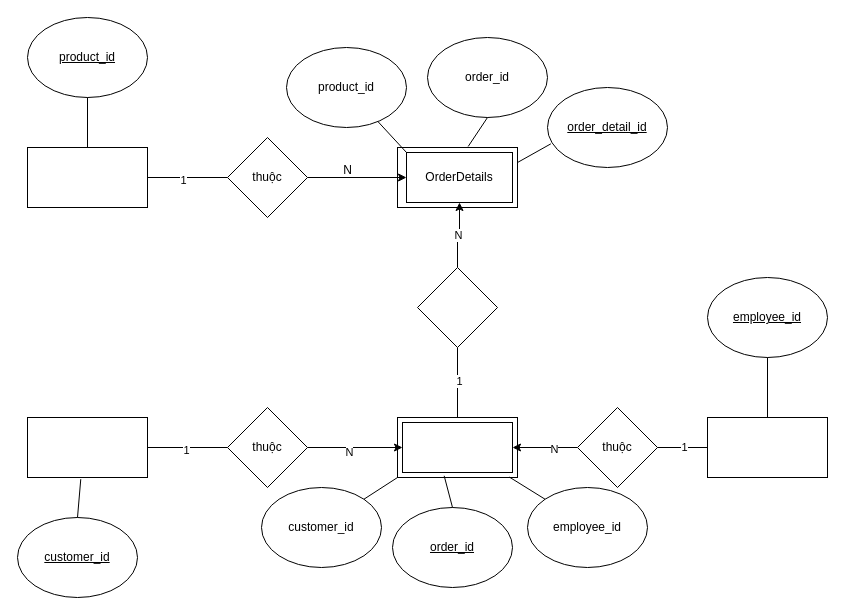
Image size: 845x615. Some labels were removed from this diagram. Each missing label, with the centre of its shape:
"Customers" belongs at (87,447).
"có" belongs at (457,307).
"Employees" belongs at (767,447).
"Orders" belongs at (457,447).
"Products" belongs at (87,177).
